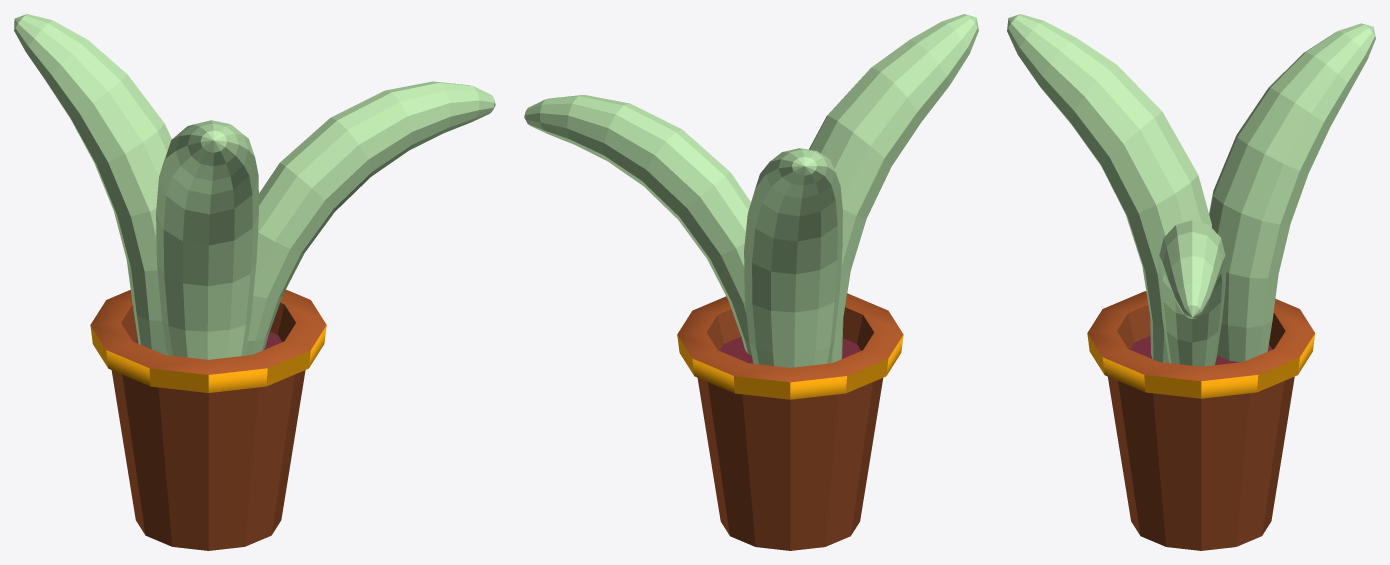
The model's file is potted_plant07.fbx.
The picture shows the model from 3 angles, left to right: view 1: azimuth 30°, elevation 25°; view 2: azimuth 150°, elevation 25°; view 3: azimuth 270°, elevation 25°; orthographic projection. The views are drawn at different scales.
Visible parts, largest first — view 1: potted_plant07; view 2: potted_plant07; view 3: potted_plant07.
Part boxes in pixels (<box>): potted_plant07: <box>14,14,495,550</box>; potted_plant07: <box>524,14,978,550</box>; potted_plant07: <box>1007,14,1375,550</box>.
Bounding box in the file's own units: 1.34 × 1.57 × 1.13.
